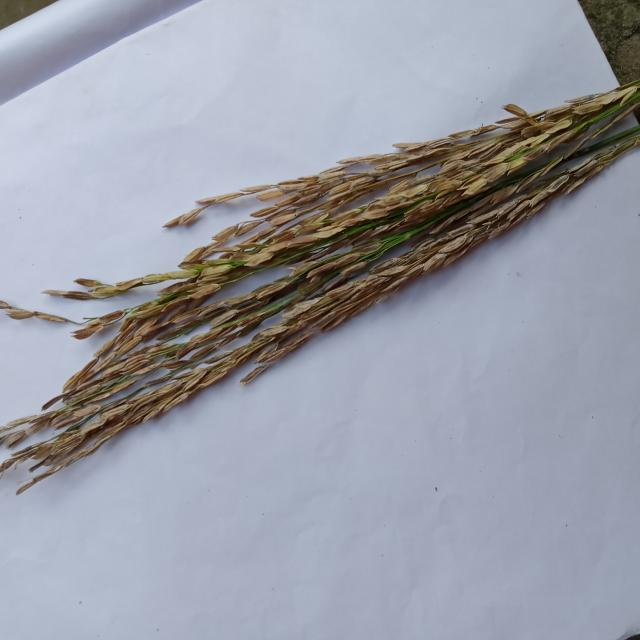Neck_Blast: (0, 85, 640, 493), (0, 80, 625, 452)
